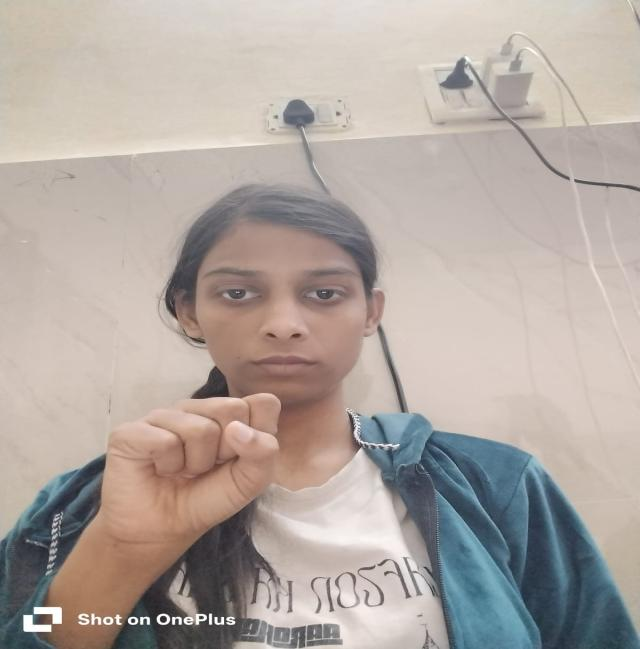Yes: (59, 384, 341, 570)
